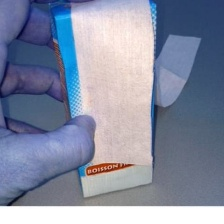carton: (45, 0, 160, 202)
